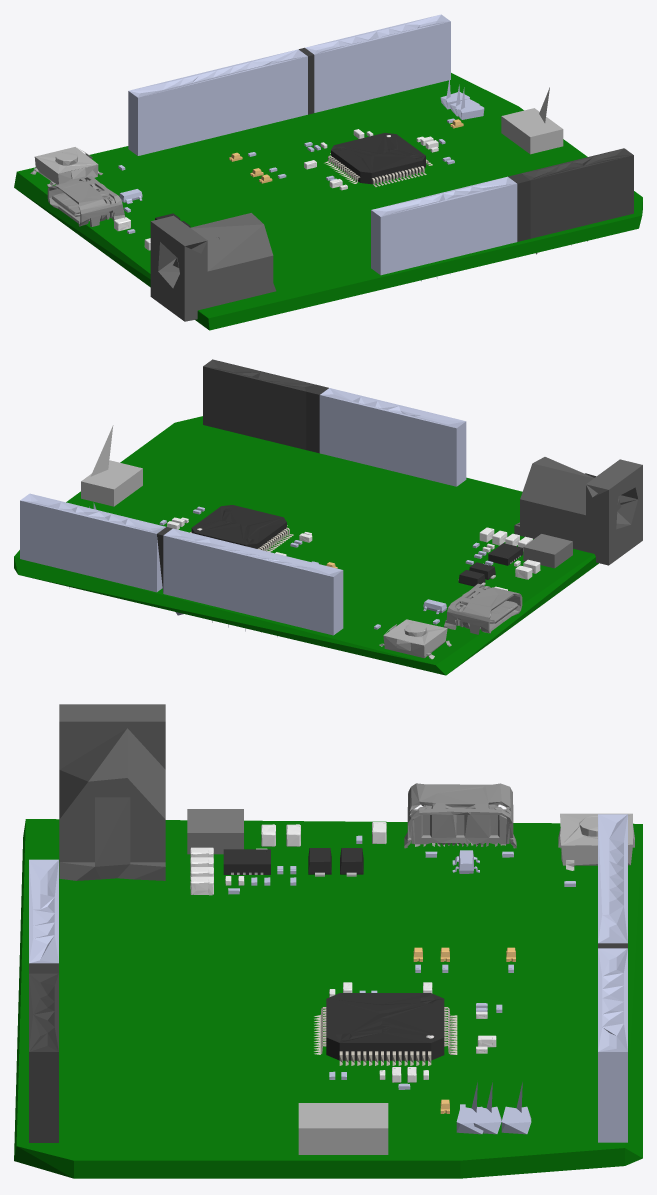
File: arduino-uno-r4-minima.glb
3 views of the same model, one above another, from view 1: azimuth 30°, elevation 25°; view 2: azimuth 150°, elevation 25°; view 3: azimuth 270°, elevation 25° (orthographic). The views are drawn at different scales.
Parts seen in each view (by area): view 1: colour 1, colour 2, colour 12, colour 16, colour 3, colour 14, colour 13, colour 7, colour 15, colour 5, colour 8; view 2: colour 1, colour 2, colour 12, colour 16, colour 3, colour 14, colour 13, colour 7, colour 5, colour 15, colour 6; view 3: colour 1, colour 12, colour 2, colour 3, colour 14, colour 16, colour 13, colour 5, colour 7, colour 6, colour 8.
Part boxes in pixels (x1,y1,x2,y2): colour 1: (14,73,642,330); colour 2: (118,14,517,281); colour 12: (150,213,276,321); colour 16: (521,148,633,254); colour 3: (155,133,425,227); colour 14: (47,176,125,226); colour 13: (501,87,563,154); colour 7: (30,147,102,186); colour 15: (299,47,530,241); colour 5: (114,129,438,250); colour 8: (324,153,432,186); colour 1: (14,416,598,675); colour 2: (20,388,493,636); colour 12: (514,457,642,565); colour 16: (203,359,315,449); colour 3: (191,505,522,586); colour 14: (444,583,522,634); colour 13: (81,425,142,506); colour 7: (379,619,451,659); colour 5: (167,517,540,590); colour 15: (157,384,328,591); colour 6: (523,534,572,568); colour 1: (14,819,642,1178); colour 12: (59,704,165,880); colour 2: (29,814,627,1142); colour 3: (223,848,444,1060); colour 14: (404,783,516,848); colour 16: (29,973,58,1142); colour 13: (298,1103,388,1154); colour 5: (190,822,496,1082); colour 7: (558,813,634,870); colour 6: (187,809,243,854); colour 8: (314,1007,457,1065).
Size of the model in its own units: 0.0705 by 0.0145 by 0.0533.
